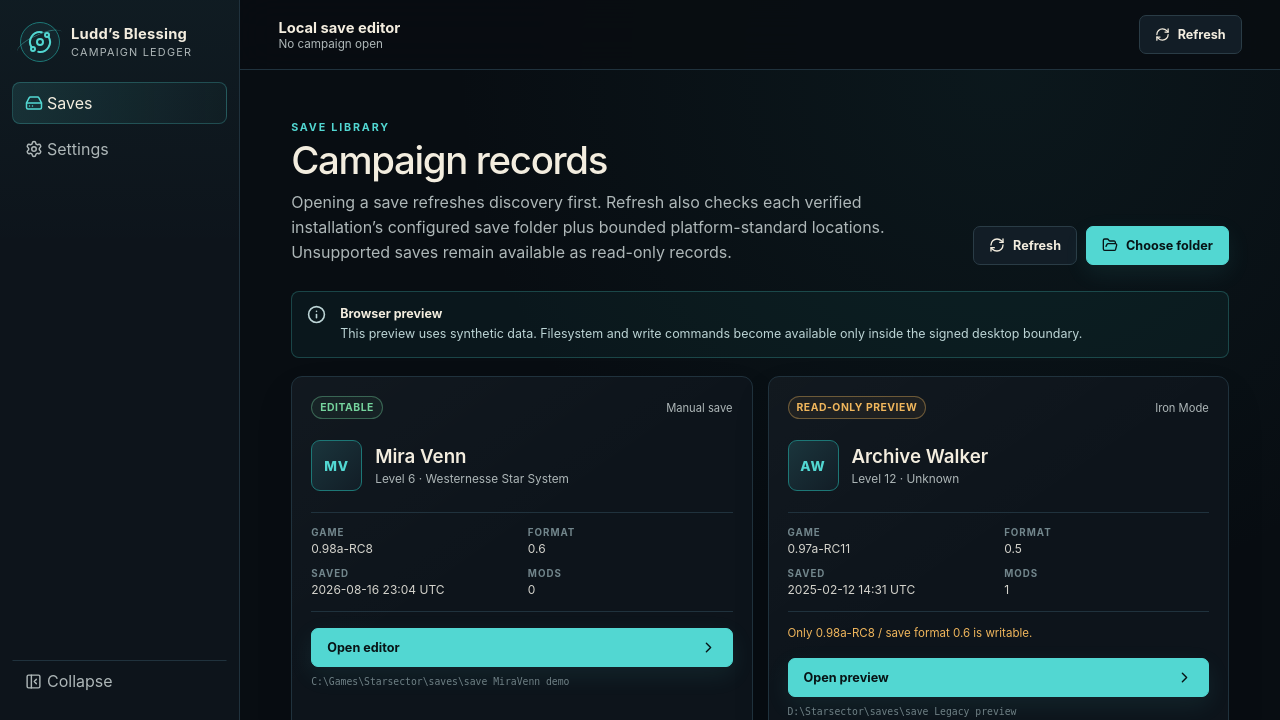
Test: Ludd’s Blessing app shell › edits Local Resources without presenting a cargo-capacity limit
Click the button "Open editor".
click(363, 648)  # box x1=311 y1=628 x2=732 y2=667
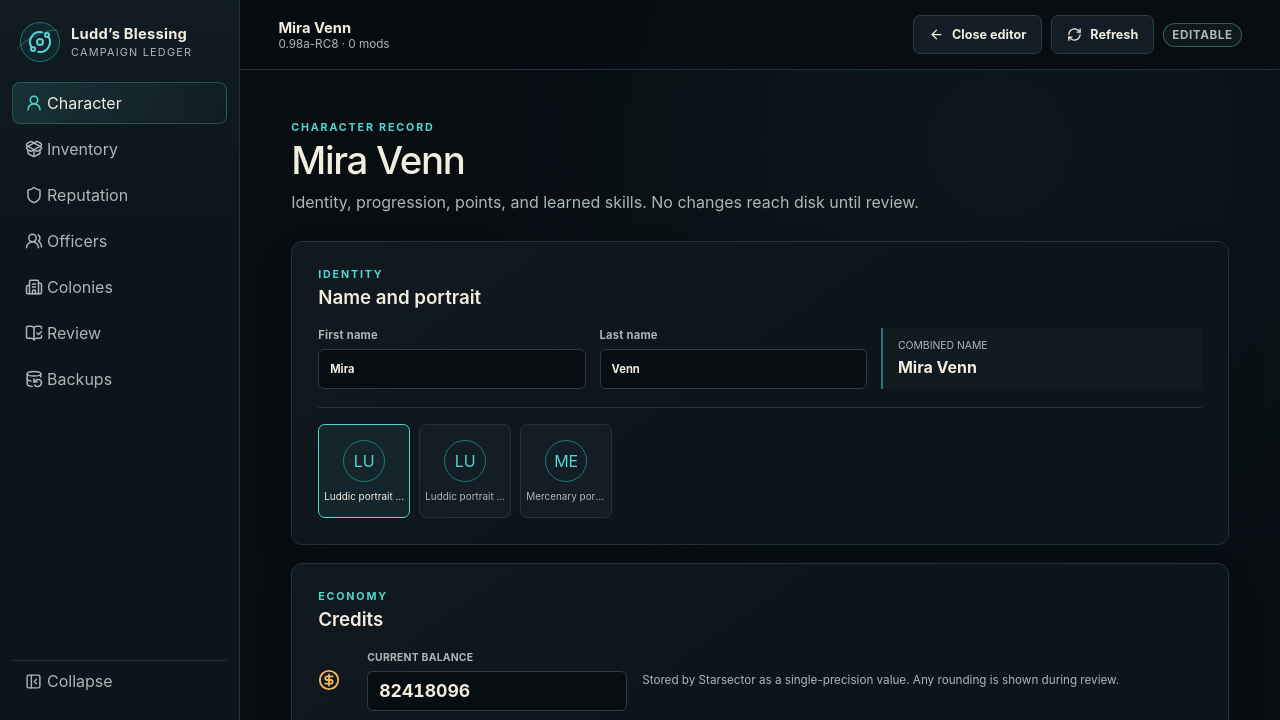
Expected: the heading "Name and portrait" is shown, x1=318 y1=286 x2=481 y2=309
Click the button "Colonies".
click(120, 287)  # box x1=12 y1=266 x2=227 y2=308
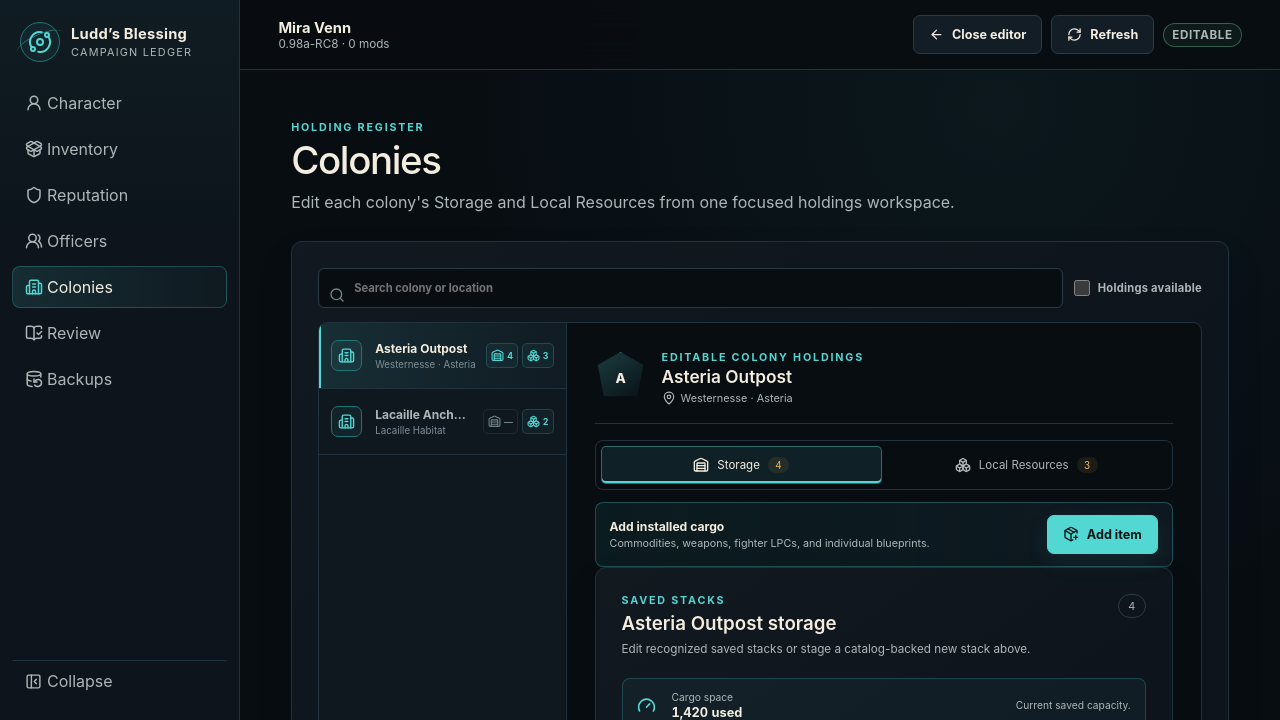
Expected: the heading "Colonies" is shown, x1=291 y1=137 x2=441 y2=183
Click the tab "Local Resources 3".
click(1026, 465)  # box x1=886 y1=446 x2=1167 y2=484
(page scrolled)
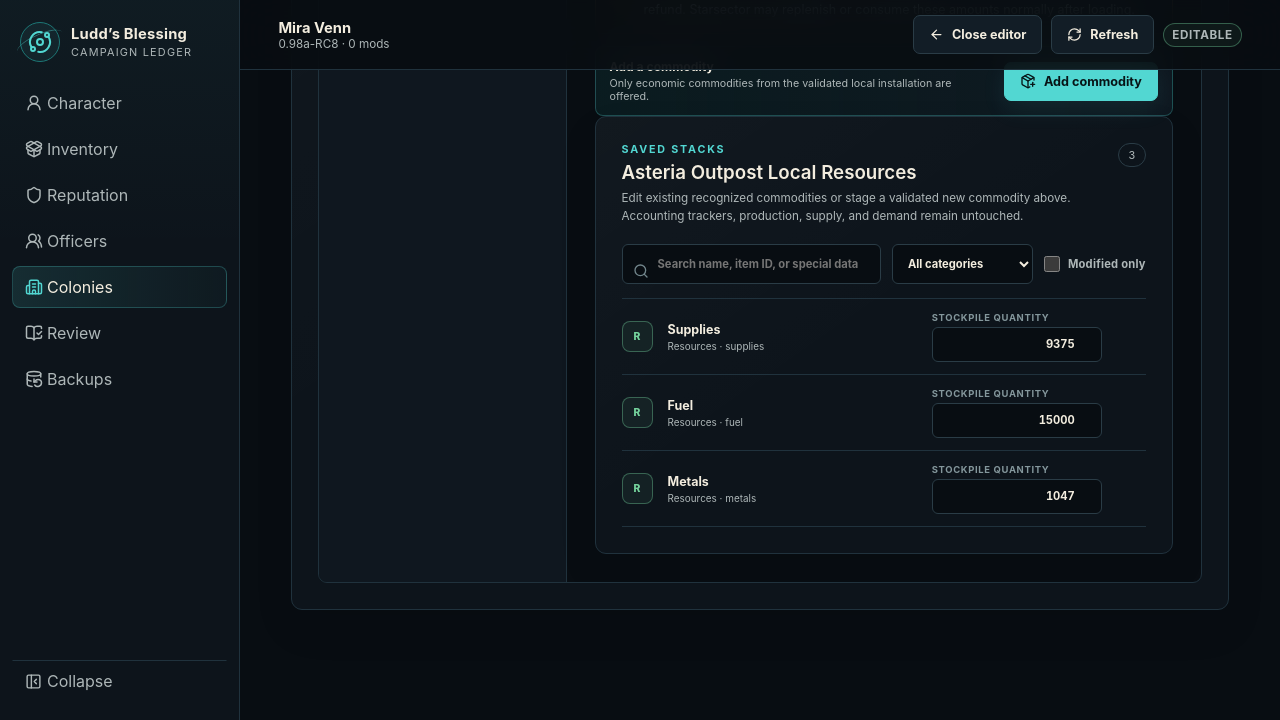
Expected: the heading "Asteria Outpost Local Resources" is shown, x1=622 y1=161 x2=916 y2=184
Expected: the text "Cargo space" is gone
Replace the text in the number field named "Metals quantity" with "1048" at (1017, 496), box x1=932 y1=479 x2=1102 y2=514
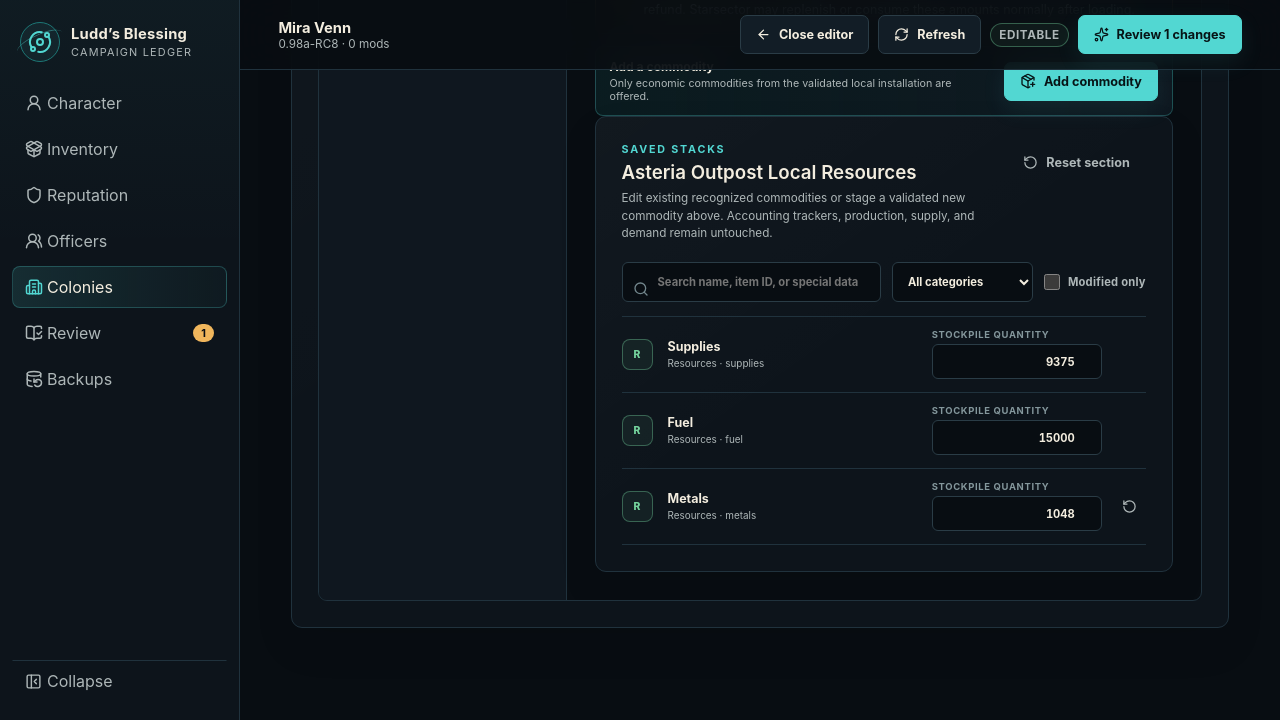
Click the button "Review 1 changes".
click(1160, 34)  # box x1=1078 y1=15 x2=1242 y2=54
(page scrolled)
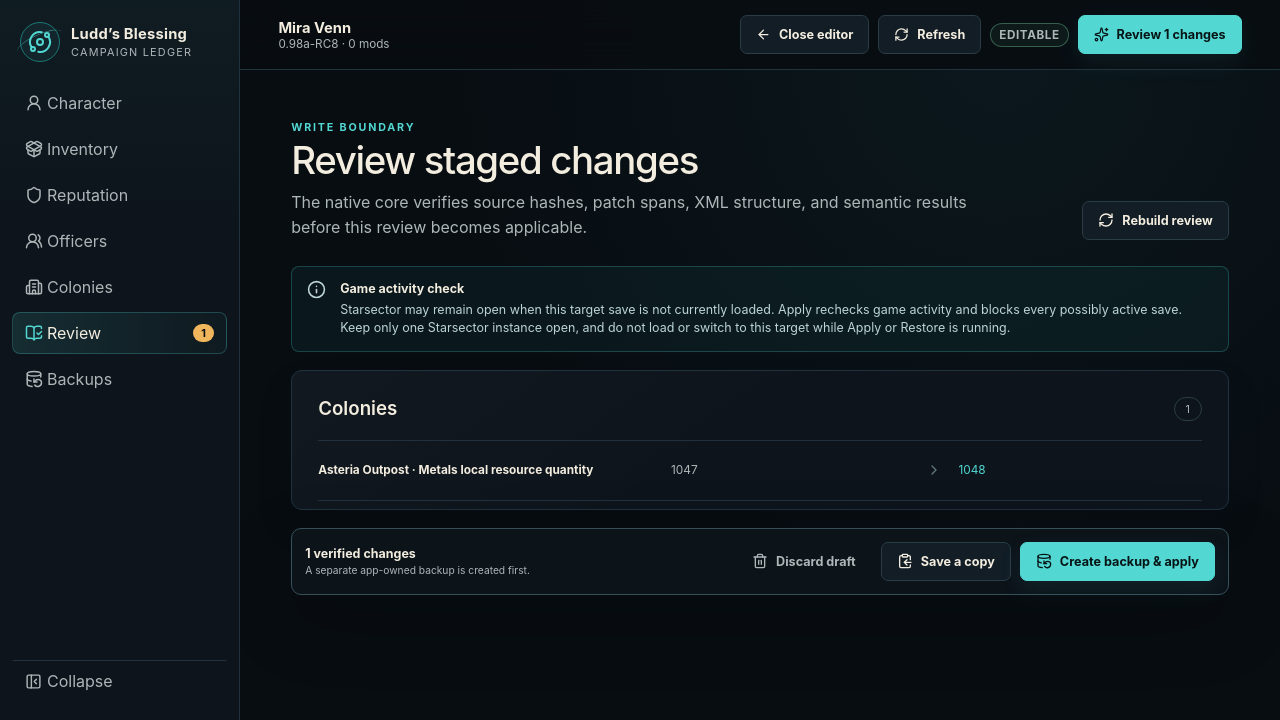
Expected: the heading "Review staged changes" is shown, x1=291 y1=137 x2=698 y2=183
Expected: the element "Colonies" is shown, x1=291 y1=370 x2=1229 y2=510
Expected: the text "Asteria Outpost · Metals local resource quantity" is shown, x1=318 y1=463 x2=593 y2=477
